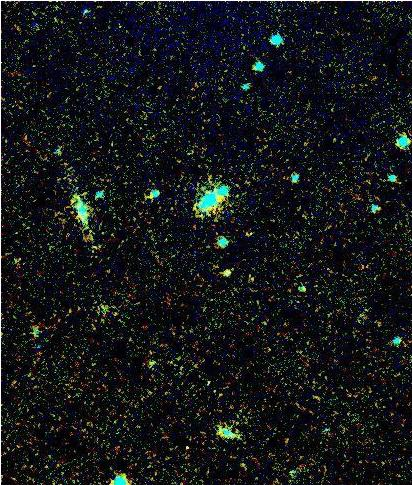star: (209, 182, 239, 212)
